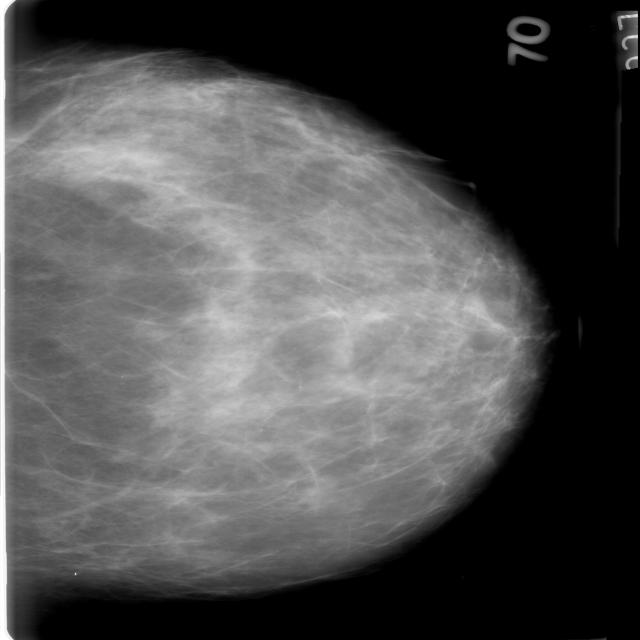normal: (0, 48, 541, 604)
